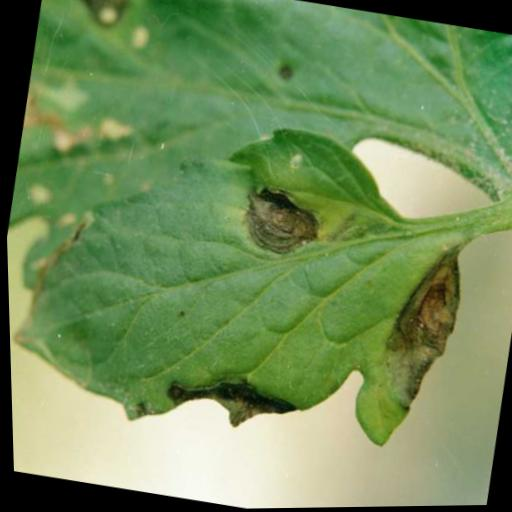Late Blight: (2, 82, 485, 479)
